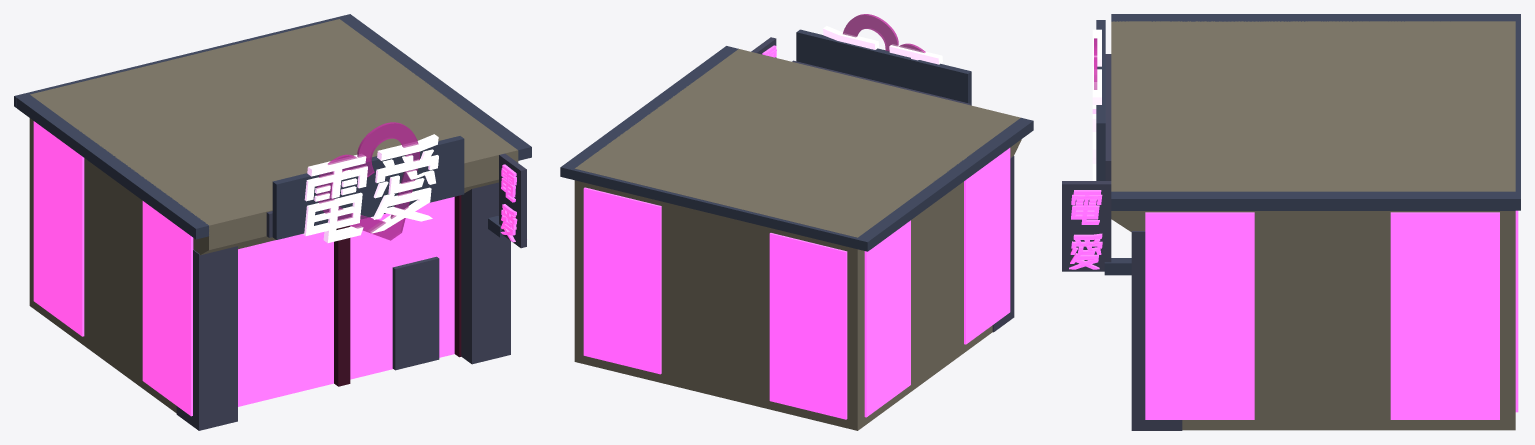
3 renders of one model, left to right at view 1: azimuth 30°, elevation 25°; view 2: azimuth 150°, elevation 25°; view 3: azimuth 270°, elevation 25°, orthographic. The views are drawn at different scales.
Visible parts, largest first — view 1: Cube.028, Cube.002, Cube.016, Cube.017, Cube.007, Text.002, Cube, Cube.001, Cube.011, Cube.006, Cube.018, Text.003 (+6 smaller); view 2: Cube.028, Cube.013, Cube.014, Cube.001, Cube.016, Cube.017, Cube.011, Cube.020, Cube.018, Cube.019, Text.002, Text.003 (+1 smaller); view 3: Cube.028, Cube.012, Cube.015, Cube.001, Cube.019, Cube, Cube.018, Cube.008, Text, Cube.020, Cube.011, Text.002 (+3 smaller).
Boxes of the visible parts, x1,y1,x2,y2 form: Cube.028: (29,19,486,413); Cube.002: (238,197,454,406); Cube.016: (33,121,84,336); Cube.017: (142,201,193,416); Cube.007: (176,246,237,430); Text.002: (303,134,438,242); Cube: (461,182,510,364); Cube.001: (178,127,518,255); Cube.011: (272,136,464,239); Cube.006: (392,256,439,370); Cube.018: (16,94,208,239); Text.003: (316,122,419,240); Cube.028: (574,70,992,430); Cube.013: (583,187,661,374); Cube.014: (769,233,847,419); Cube.001: (710,49,1021,157); Cube.016: (864,220,910,417); Cube.017: (964,148,1010,344); Cube.011: (796,29,971,105); Cube.020: (560,166,869,251); Cube.018: (858,117,1033,249); Cube.019: (563,46,738,168); Text.002: (823,26,942,64); Text.003: (843,14,925,52); Cube.028: (1182,21,1515,430); Cube.012: (1145,212,1254,419); Cube.015: (1390,212,1499,419); Cube.001: (1111,21,1182,231); Cube.019: (1111,191,1515,210); Cube: (1131,231,1182,430); Cube.018: (1111,14,1515,21); Cube.008: (1062,181,1111,271); Text: (1069,190,1102,269); Cube.020: (1515,14,1520,210); Cube.011: (1096,20,1105,180); Text.002: (1092,29,1101,180).
Size of the model in its own units: 13.47 by 10.61 by 14.12.
